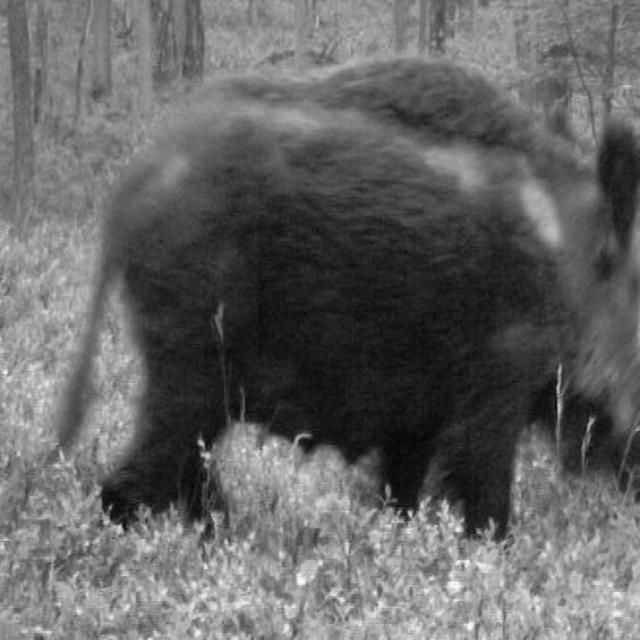WILD BOAR: (37, 62, 640, 587)
